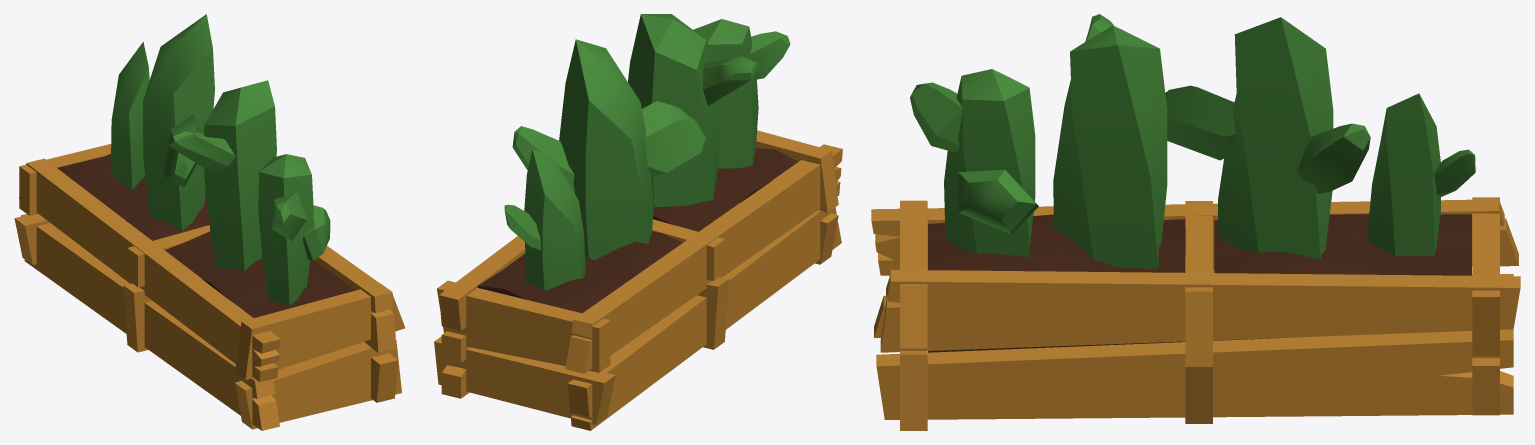
File: kaktus.fbx
3 renders of one model, left to right at view 1: azimuth 30°, elevation 25°; view 2: azimuth 150°, elevation 25°; view 3: azimuth 270°, elevation 25°, orthographic. The views are drawn at different scales.
Visible parts, largest first — view 1: Sphere, Cube.018, Cube.019, Cube.020, Sphere.001; view 2: Sphere, Cube.018, Cube.019, Cube.020, Sphere.001; view 3: Cube.018, Sphere, Cube.019, Cube.020, Sphere.001.
Boxes of the visible parts, bbox=[...] form: Sphere: bbox=[111, 14, 313, 305]; Cube.018: bbox=[19, 158, 397, 430]; Cube.019: bbox=[14, 144, 405, 429]; Cube.020: bbox=[57, 153, 355, 317]; Sphere.001: bbox=[161, 114, 330, 260]; Sphere: bbox=[524, 14, 758, 290]; Cube.018: bbox=[439, 144, 842, 430]; Cube.019: bbox=[434, 130, 838, 424]; Cube.020: bbox=[477, 148, 798, 313]; Sphere.001: bbox=[504, 31, 790, 250]; Cube.018: bbox=[871, 199, 1520, 419]; Sphere: bbox=[944, 17, 1440, 268]; Cube.019: bbox=[900, 197, 1499, 430]; Cube.020: bbox=[928, 214, 1471, 352]; Sphere.001: bbox=[910, 14, 1475, 234].
Bounding box in the file's own units: 76.61 × 127 × 196.
